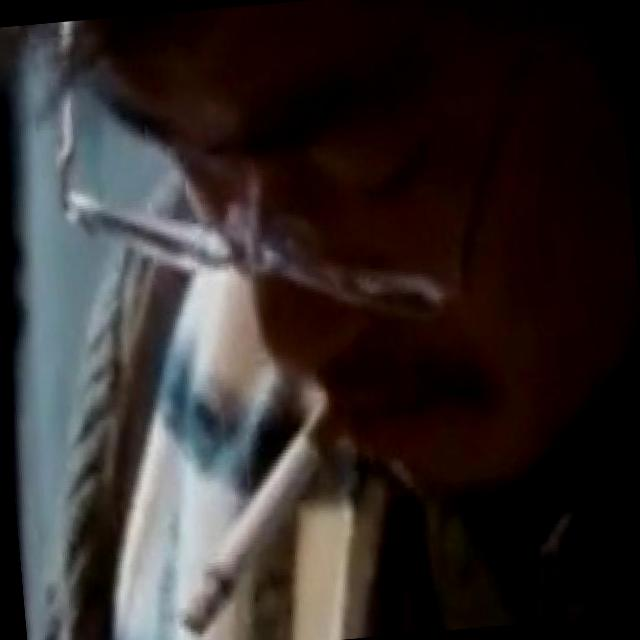cigarette: (152, 401, 362, 627)
